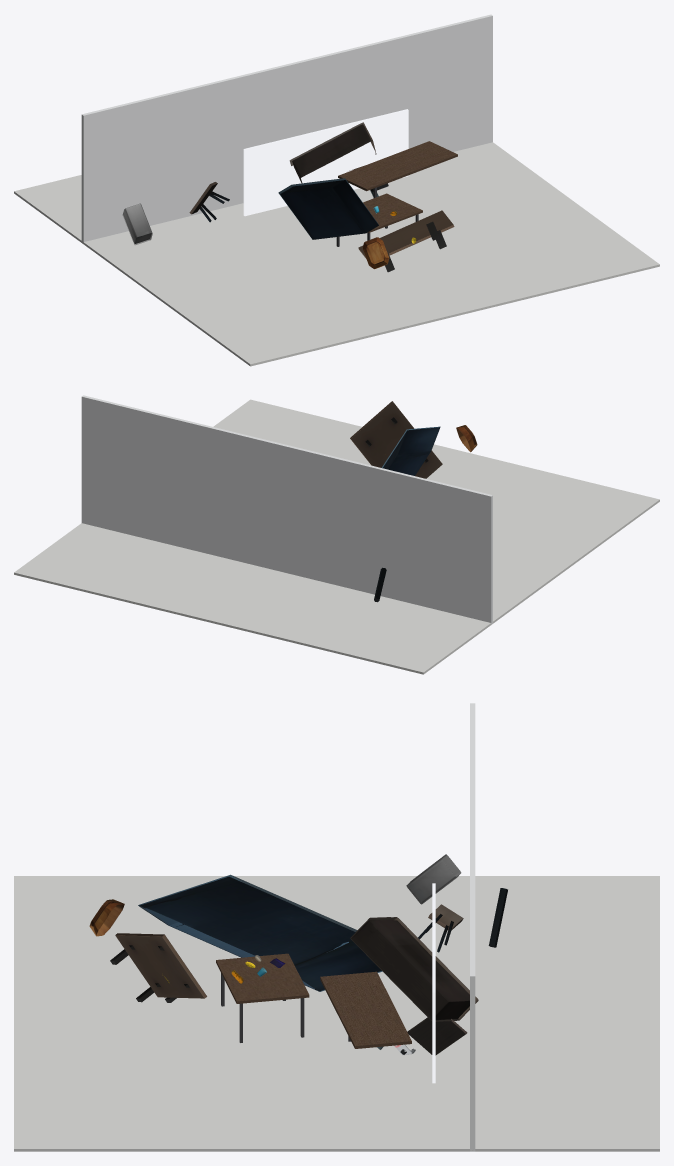
File: viga.glb
3 views of the same model, one above another, from view 1: azimuth 30°, elevation 25°; view 2: azimuth 150°, elevation 25°; view 3: azimuth 270°, elevation 25° (orthographic). The views are drawn at different scales.
Visible parts, largest first — view 1: ENV_floor, ENV_backwall, ENV_window_glow, blue_partition_wall_mesh, ENV_back_counter, tiled_floor_mesh, wooden_table_mesh, ENV_tabletop, gray_metal_pillar_mesh, wooden_stool_mesh; view 2: ENV_backwall, ENV_floor, wooden_table_mesh, blue_partition_wall_mesh; view 3: ENV_floor, blue_partition_wall_mesh, tiled_floor_mesh, ENV_back_counter, wooden_table_mesh, ENV_tabletop, ENV_backwall, gray_metal_pillar_mesh, dark_wooden_bench_mesh, ENV_window_glow, wooden_stool_mesh, blue_chair_mesh.
Part boxes in pixels (x1,y1,x2,y2): ENV_floor: (14, 142, 659, 366); ENV_backwall: (81, 14, 492, 241); ENV_window_glow: (243, 109, 408, 216); blue_partition_wall_mesh: (278, 178, 378, 239); ENV_back_counter: (338, 141, 457, 191); tiled_floor_mesh: (289, 122, 376, 182); wooden_table_mesh: (358, 210, 454, 272); ENV_tabletop: (363, 193, 422, 232); gray_metal_pillar_mesh: (122, 203, 152, 245); wooden_stool_mesh: (362, 237, 389, 269); ENV_backwall: (81, 395, 492, 624); ENV_floor: (14, 399, 659, 674); wooden_table_mesh: (350, 401, 442, 478); blue_partition_wall_mesh: (381, 426, 440, 475); ENV_floor: (14, 876, 659, 1151); blue_partition_wall_mesh: (138, 874, 382, 991); tiled_floor_mesh: (350, 917, 478, 1021); ENV_back_counter: (320, 971, 411, 1048); wooden_table_mesh: (110, 933, 206, 1002); ENV_tabletop: (216, 953, 309, 1003); ENV_backwall: (470, 703, 475, 1151); gray_metal_pillar_mesh: (406, 854, 461, 904); dark_wooden_bench_mesh: (407, 1017, 467, 1055); ENV_window_glow: (432, 883, 435, 1083); wooden_stool_mesh: (89, 899, 124, 936); blue_chair_mesh: (418, 904, 463, 952).
Bounding box in the file's own units: 10 × 3 × 10.
Materials: 22 (17 with a texture image).
